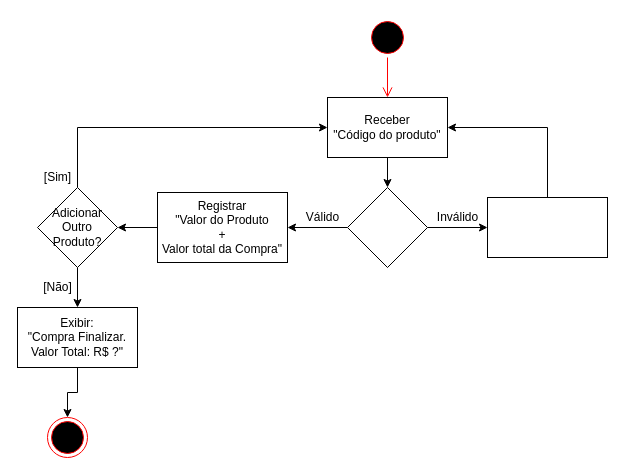
Image size: 625x475. Some labels were removed from this diagram. Each missing label, with the centre of its shape:
Código: [387,227]
Exibir "Código Não Reconhecido": [547,227]
